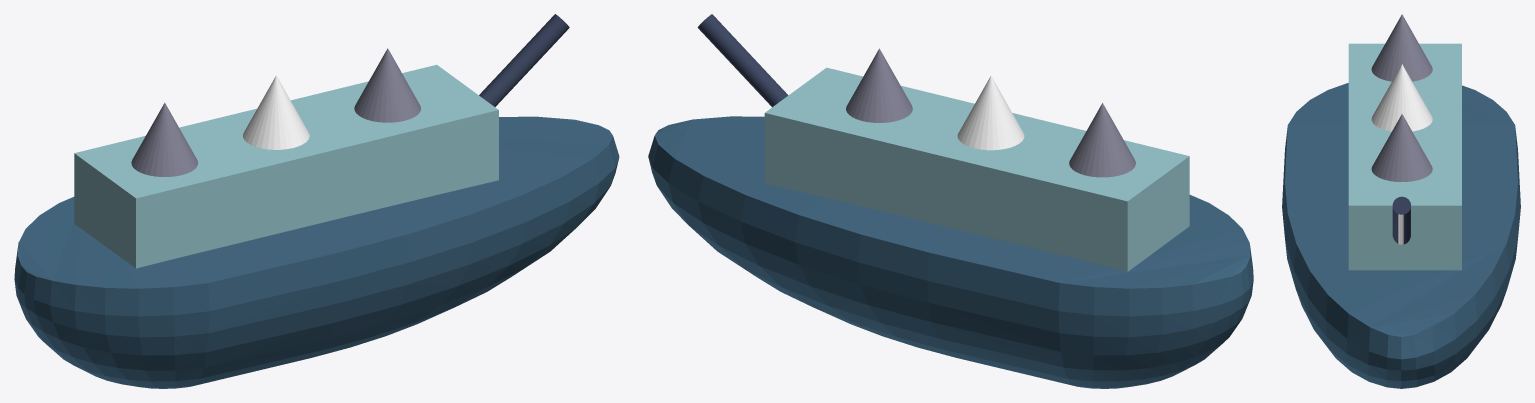
Rendered from coastguard.dae.
3 renders of one model, left to right at view 1: azimuth 30°, elevation 25°; view 2: azimuth 150°, elevation 25°; view 3: azimuth 270°, elevation 25°, orthographic. The views are drawn at different scales.
Visible parts, largest first — view 1: Sphere, Cube, Cone, Cone_001, Cone_002, Cylinder; view 2: Sphere, Cube, Cone_002, Cone_001, Cone, Cylinder; view 3: Sphere, Cube, Cone, Cone_001, Cone_002, Cylinder.
Part boxes in pixels (x1,y1,x2,y2): Sphere: [14, 116, 619, 388]; Cube: [74, 64, 498, 268]; Cone: [354, 48, 420, 122]; Cone_001: [243, 75, 309, 149]; Cone_002: [131, 102, 198, 176]; Cylinder: [479, 14, 569, 106]; Sphere: [648, 116, 1253, 388]; Cube: [764, 67, 1189, 271]; Cone_002: [1069, 103, 1135, 177]; Cone_001: [957, 76, 1024, 150]; Cone: [846, 48, 912, 122]; Cylinder: [697, 14, 788, 107]; Sphere: [1282, 83, 1520, 388]; Cube: [1348, 43, 1461, 270]; Cone: [1371, 114, 1432, 181]; Cone_001: [1371, 64, 1432, 131]; Cone_002: [1371, 14, 1432, 81]; Cylinder: [1392, 196, 1410, 244].
Bounding box in the file's own units: 17.57 × 6.72 × 7.83.
